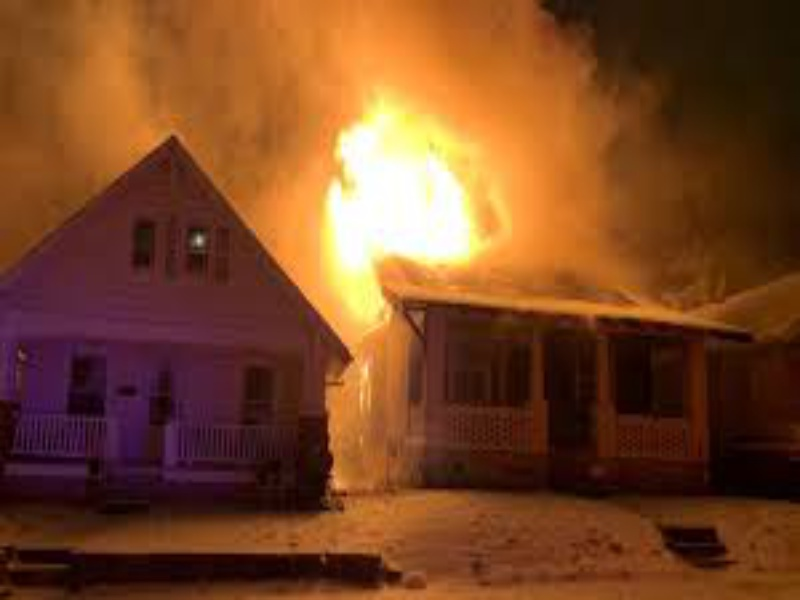fire: (313, 111, 495, 265)
